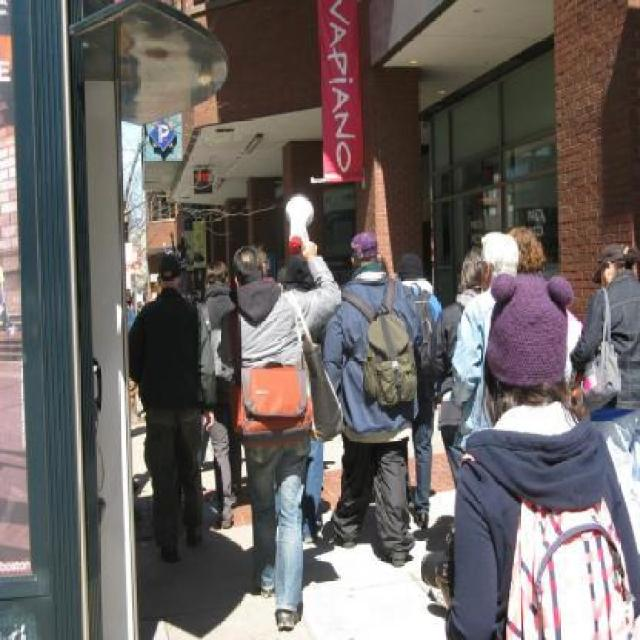backpack: (506, 477, 640, 640), (223, 356, 317, 446), (362, 308, 418, 415), (574, 337, 623, 411)
